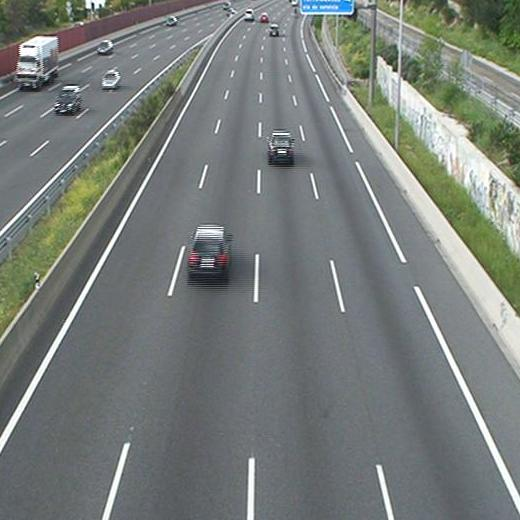car: (187, 227, 229, 272), (268, 134, 293, 160), (268, 24, 279, 37), (242, 10, 254, 20), (259, 13, 269, 22)
